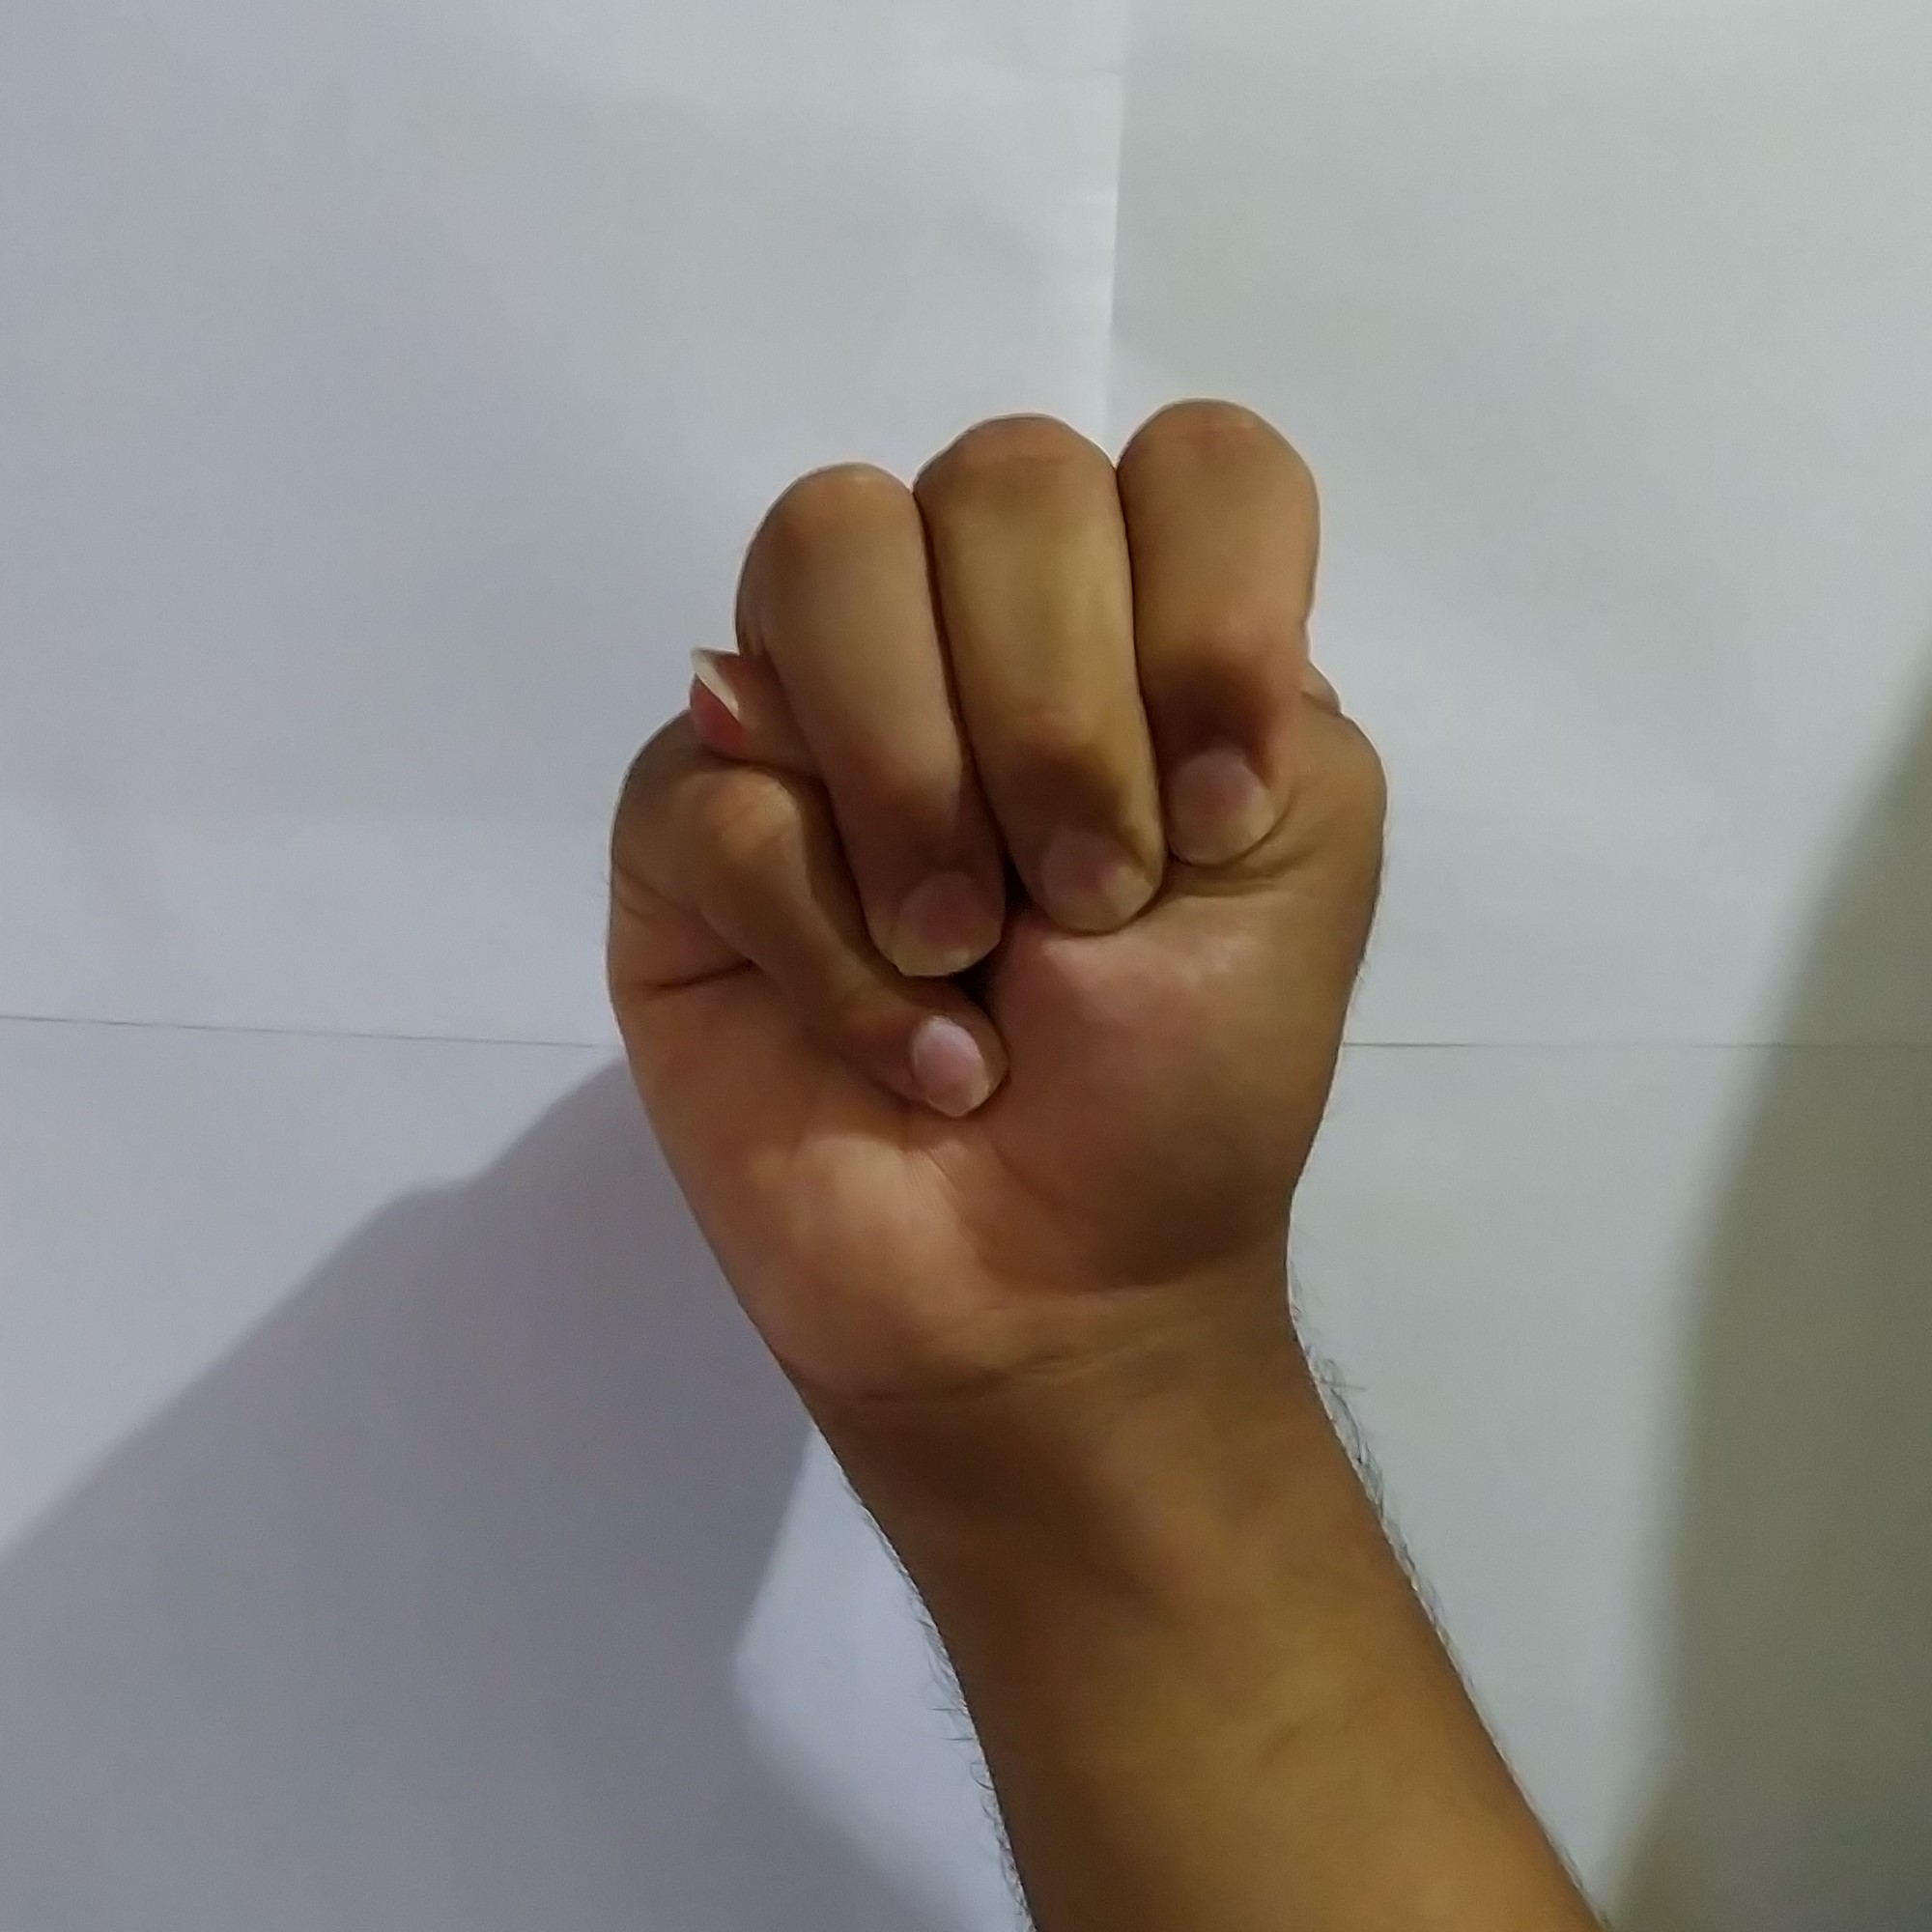M: (568, 364, 1408, 1352)
